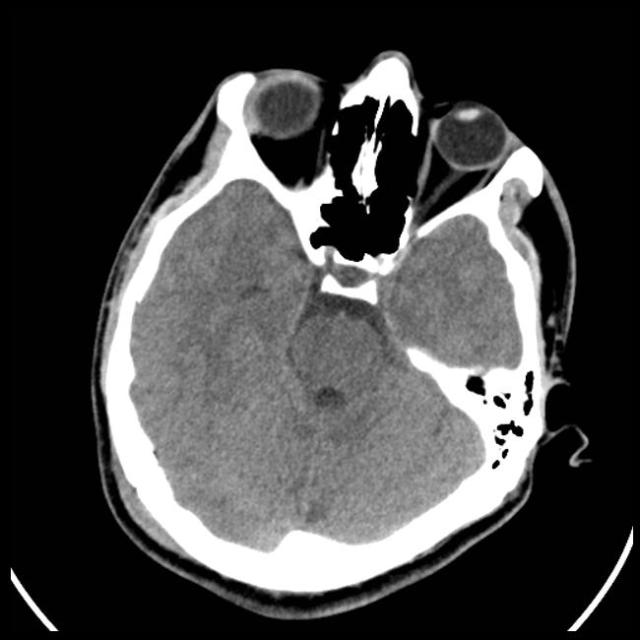lesion: (89, 49, 580, 610)
